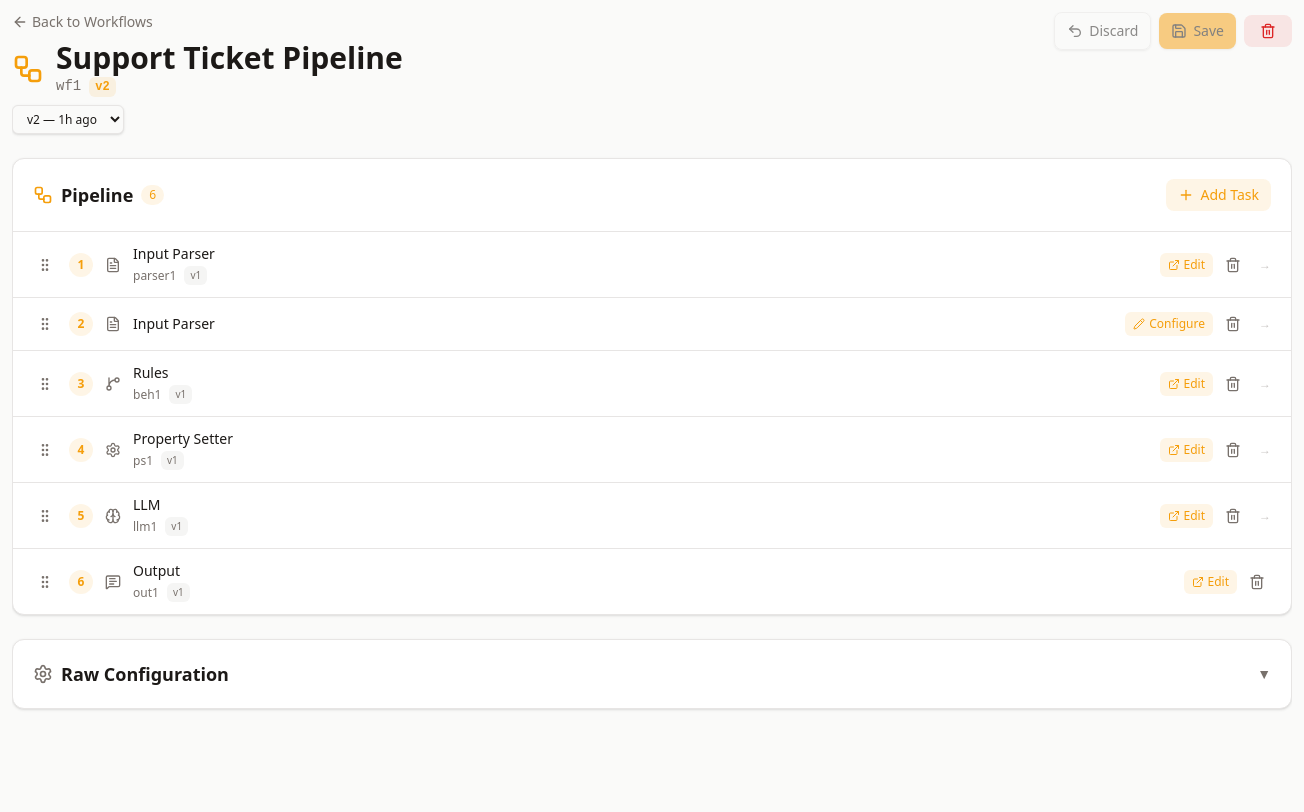
WorkflowDetailPage › discard button resets changes
Expected: the text with test id "pipeline-step-count" reads "6", [149,186,156,203]
What coordinates should you click on to do the following:
click the button with test id "^remove-ext-"
I would click on:
 (1233, 264)
Its box is [1219,250,1247,278].
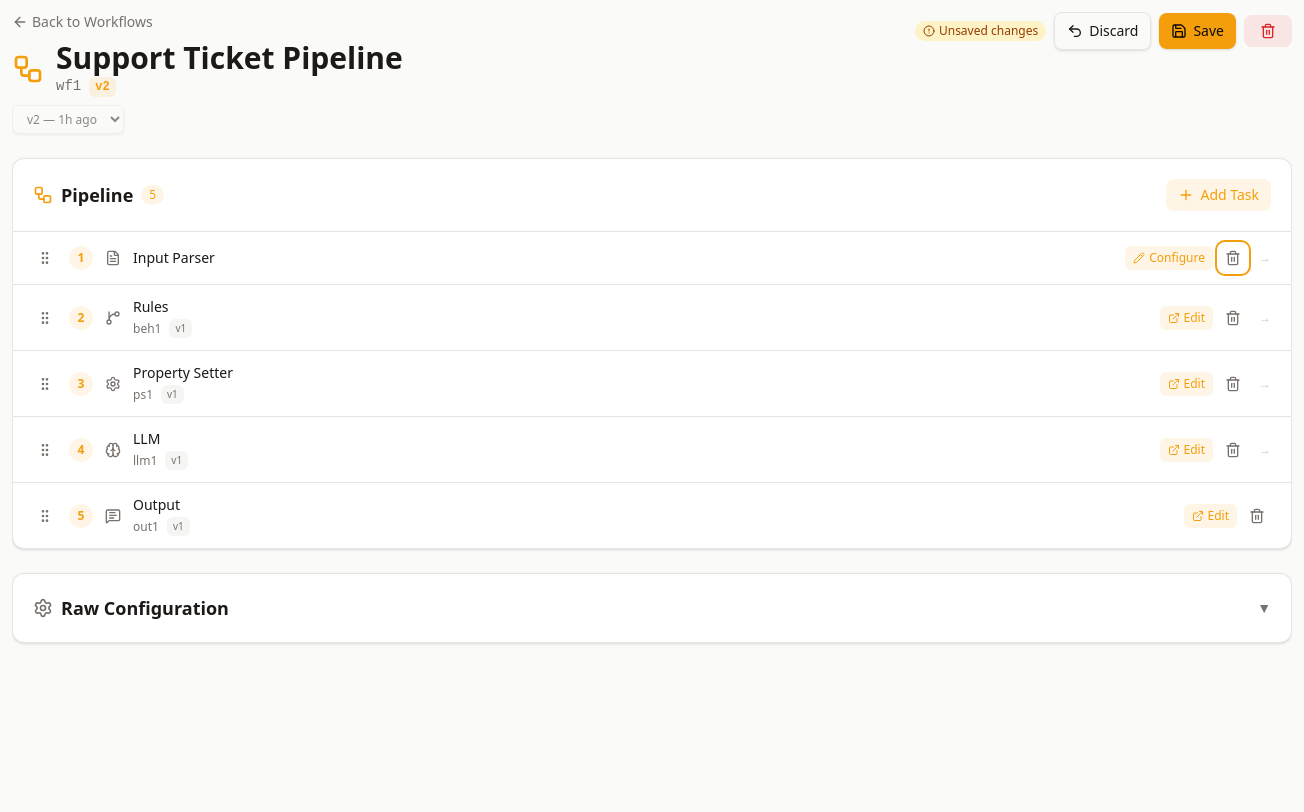
Expected: the element with test id "dirty-indicator" is shown, [915,21,1046,41]
# Click discard
What coordinates should you click on to do the following:
click the button with test id "discard-btn"
I would click on:
 (1103, 31)
Its box is [1054,12,1151,50].
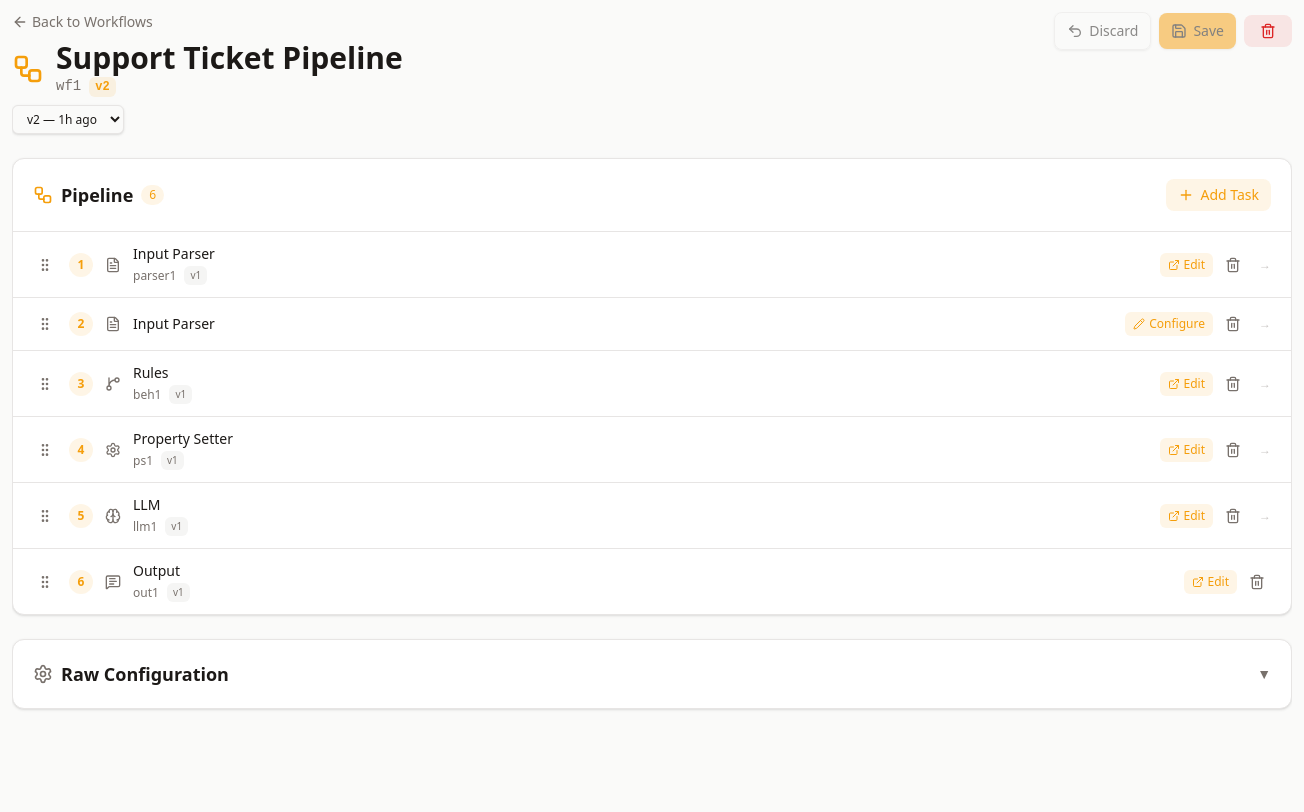
Expected: the element with test id "dirty-indicator" is gone
Expected: the text with test id "pipeline-step-count" reads "6", [149,186,156,203]
